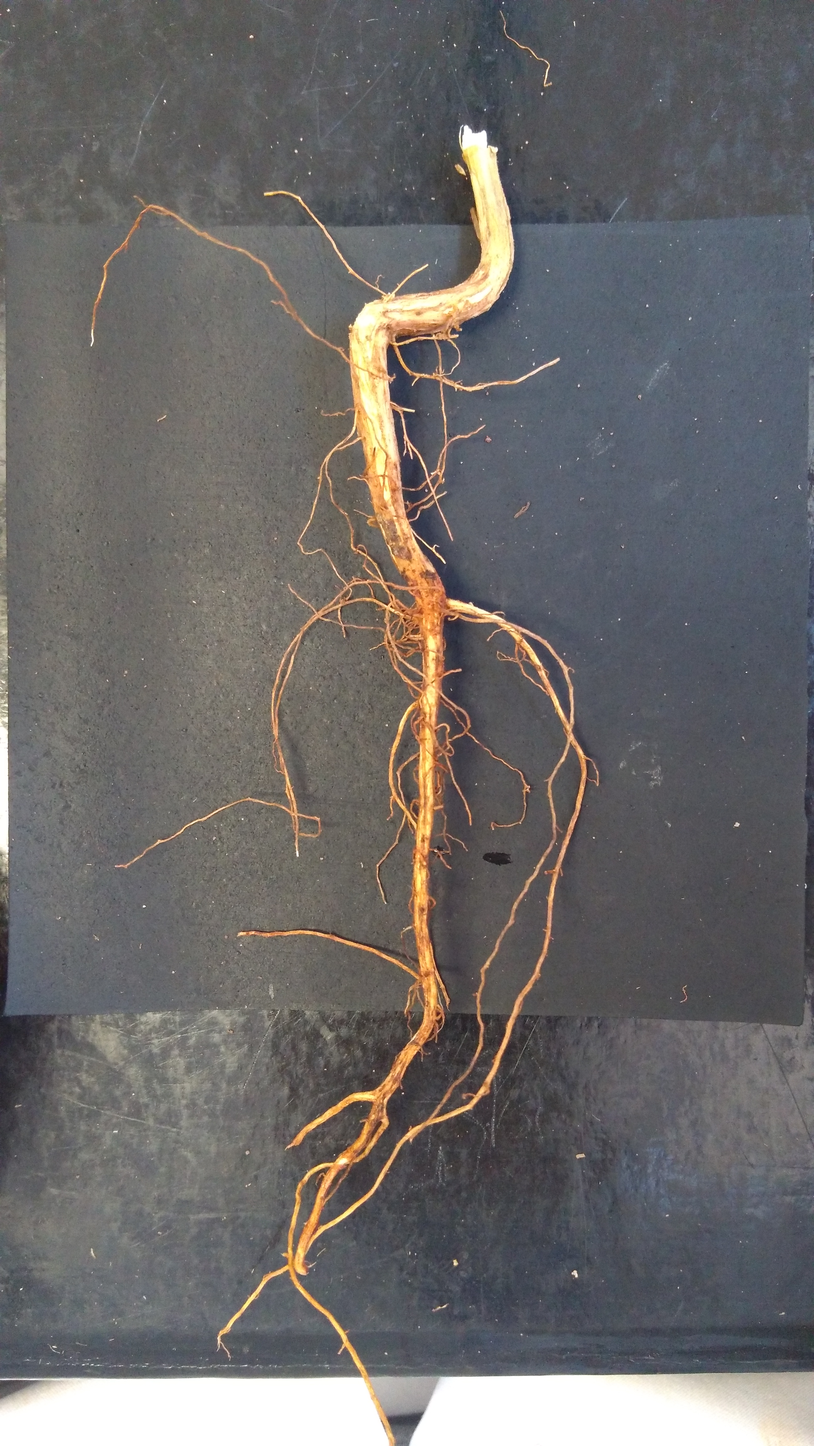nodule: (435, 769, 446, 794), (367, 515, 380, 528), (416, 632, 424, 649), (407, 607, 423, 615), (435, 332, 450, 340), (382, 292, 395, 301), (489, 146, 499, 154), (442, 635, 446, 652), (484, 435, 492, 443), (339, 597, 347, 604), (414, 798, 420, 805), (453, 1259, 459, 1266), (348, 323, 352, 330), (455, 328, 462, 332), (407, 502, 412, 507), (468, 602, 474, 606), (408, 1125, 412, 1131), (442, 654, 445, 661), (485, 391, 489, 396), (526, 788, 530, 792), (527, 785, 530, 789), (460, 382, 463, 385), (401, 1092, 405, 1094)
